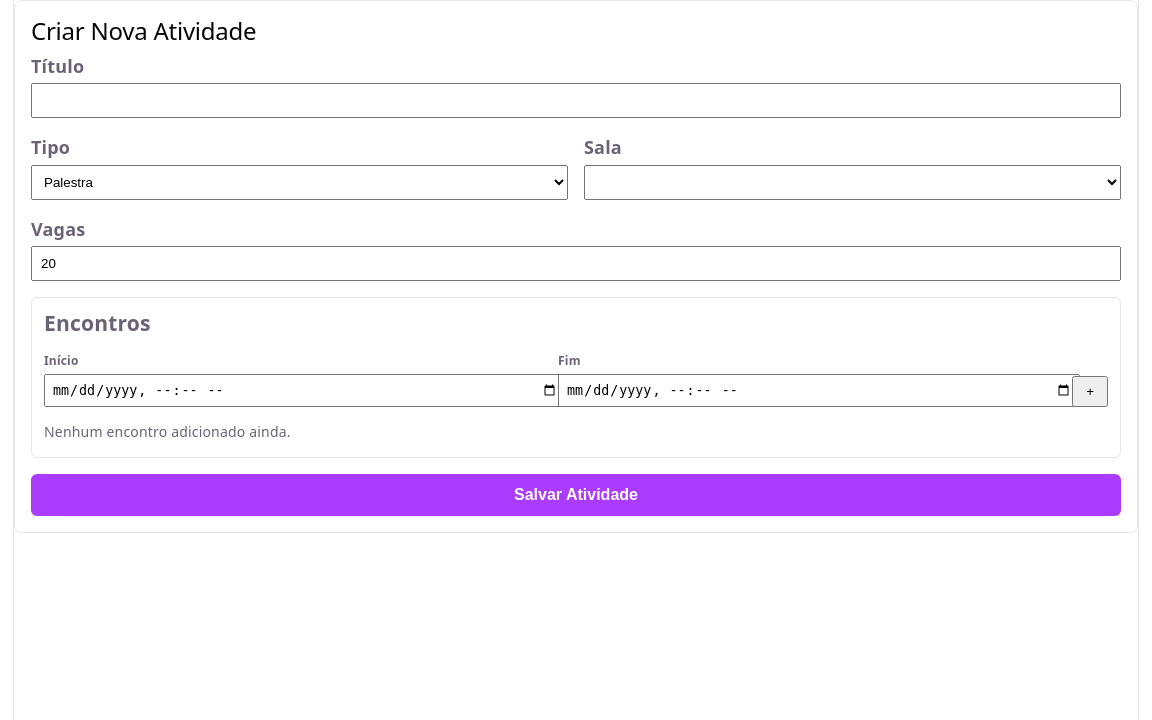
CriarAtividade › deve exibir erro da API
// Fill the required title field
Type "Nova Palestra" into the field with test id "input-titulo" at (576, 101), box [31,83,1121,118]
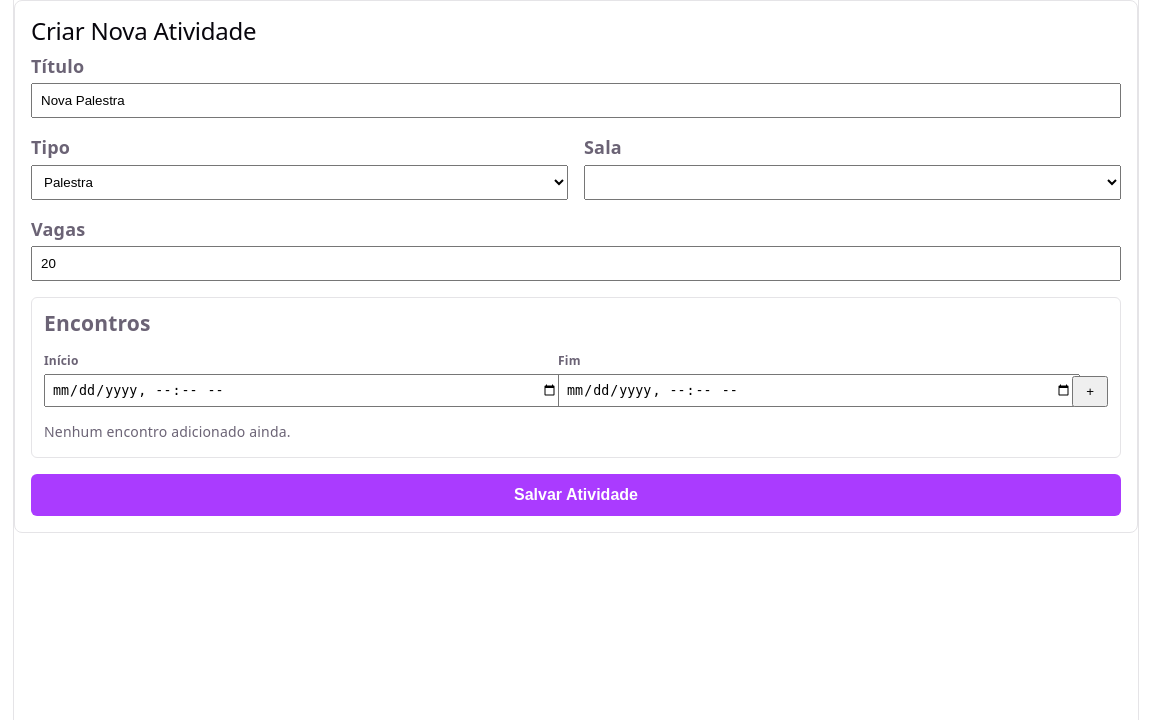
// Submit using the submit button
Click the button "Salvar Atividade" at (576, 495), box [31,474,1121,516]
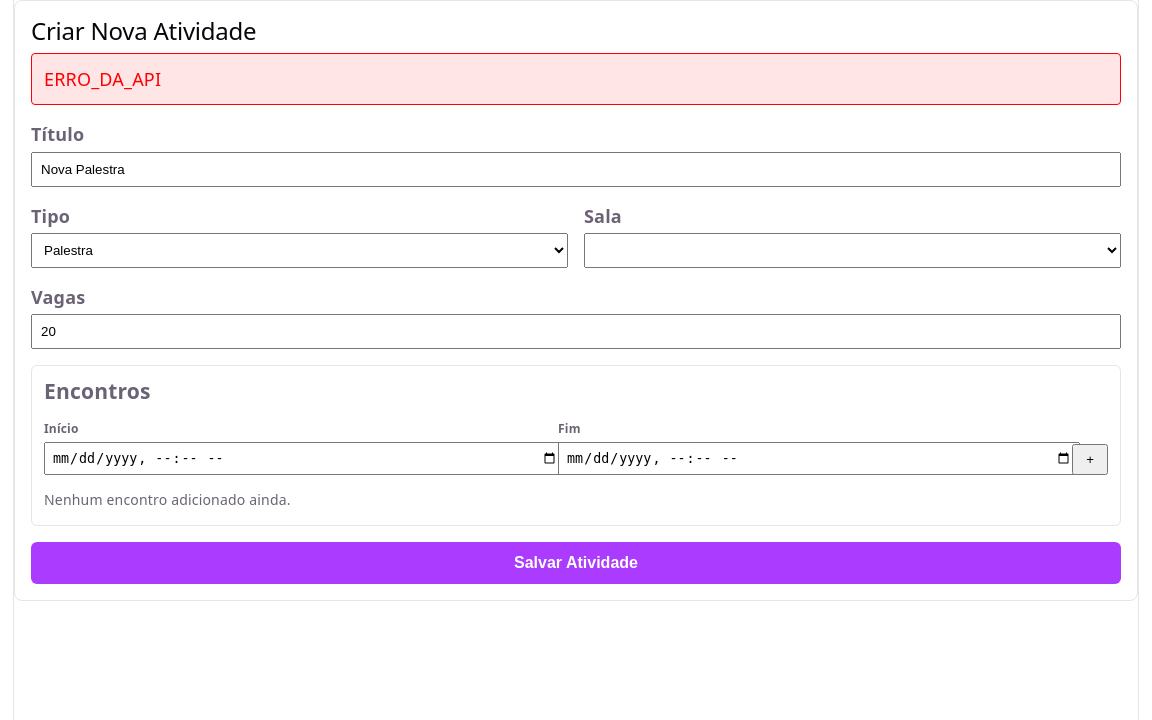
Expected: the text "ERRO_DA_API" is shown, [31,53,1121,105]
